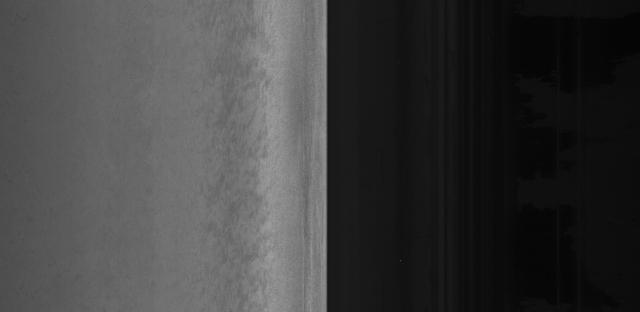silk_spot: (210, 93, 265, 191)
